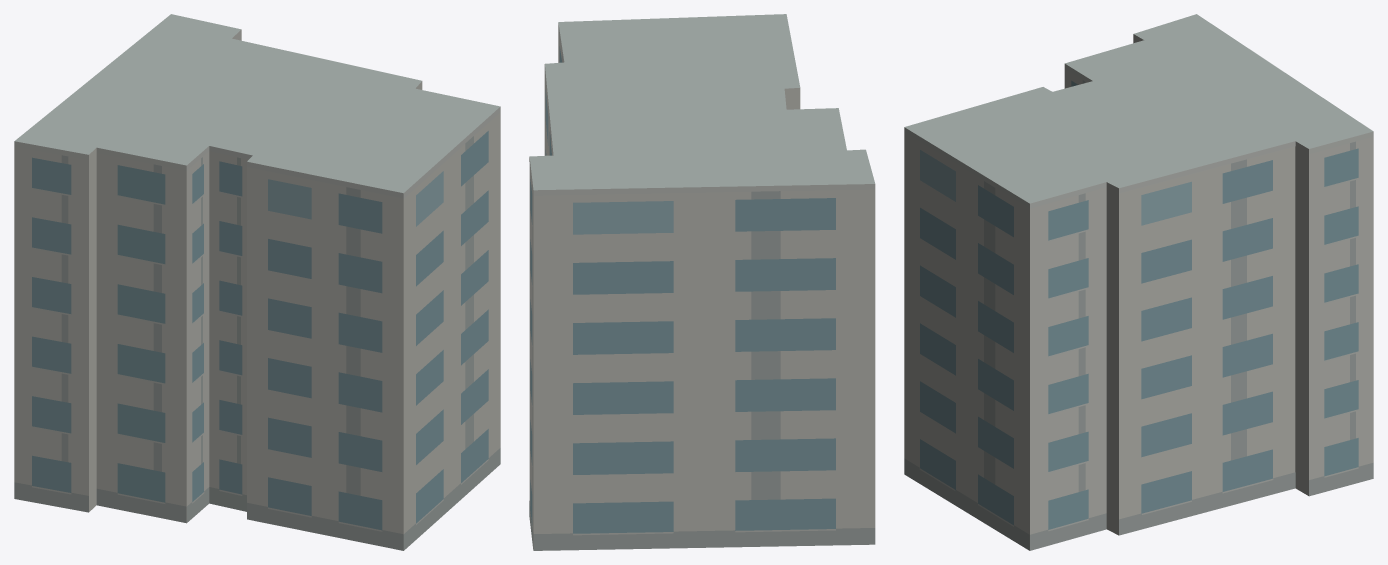
The model's file is survey-upis-32802800.glb.
3 views of the same model, side by side, from view 1: azimuth 30°, elevation 25°; view 2: azimuth 150°, elevation 25°; view 3: azimuth 270°, elevation 25° (orthographic). The views are drawn at different scales.
Visible parts, largest first — view 1: survey-upis-32802800.tmp; view 2: survey-upis-32802800.tmp; view 3: survey-upis-32802800.tmp.
Part boxes in pixels (left/top/right/bottom): survey-upis-32802800.tmp: left=14, top=14, right=500, bottom=550; survey-upis-32802800.tmp: left=529, top=14, right=875, bottom=550; survey-upis-32802800.tmp: left=904, top=14, right=1373, bottom=550.
Bounding box in the file's own units: 18.93 × 16.15 × 19.8.
